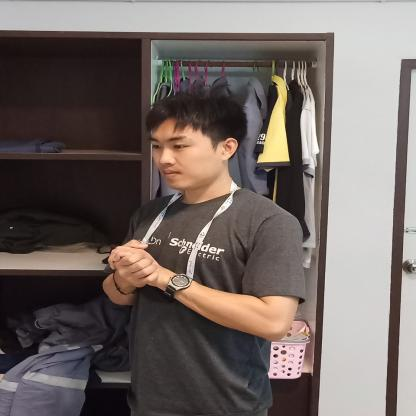Grieve: (70, 204, 193, 303)
